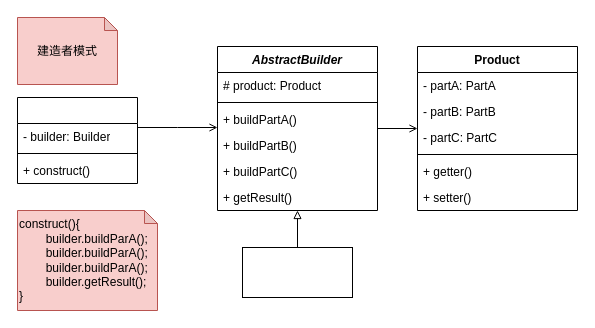
Some shapes in this 595 by 328 pixel diagram are drawn without their labels. The box of each missing label's shape, as (x1, y1, x2, y2) in pixels:
ConcreteBuilder: (242, 246, 352, 298)
Director: (16, 96, 138, 184)
